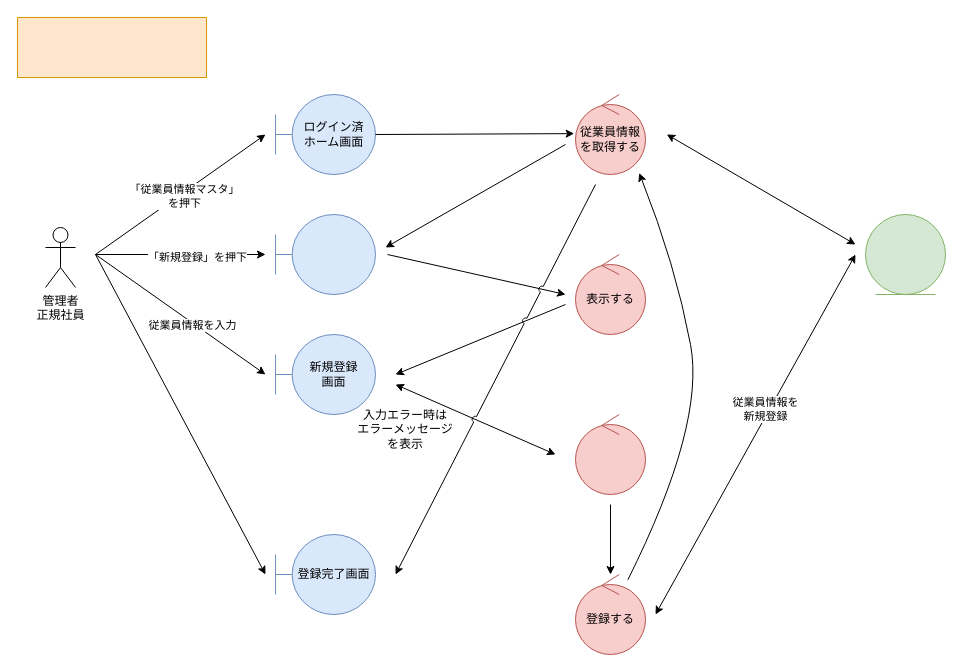
Image size: 963x672. Some labels were removed from this diagram. The centre of each missing label's shape, as x and y in pixels:
"入力データを検証する" belongs at (610,454).
"従業員情報" belongs at (905,254).
"従業員情報 一覧画面" belongs at (325,254).
"従業員情報管理_登録" belongs at (111,47).
